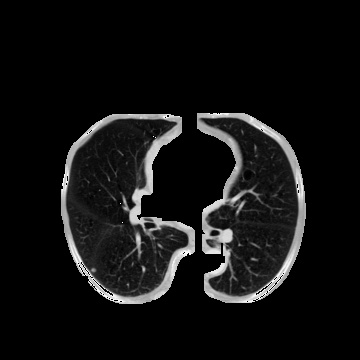PN: (91, 268, 95, 272)
